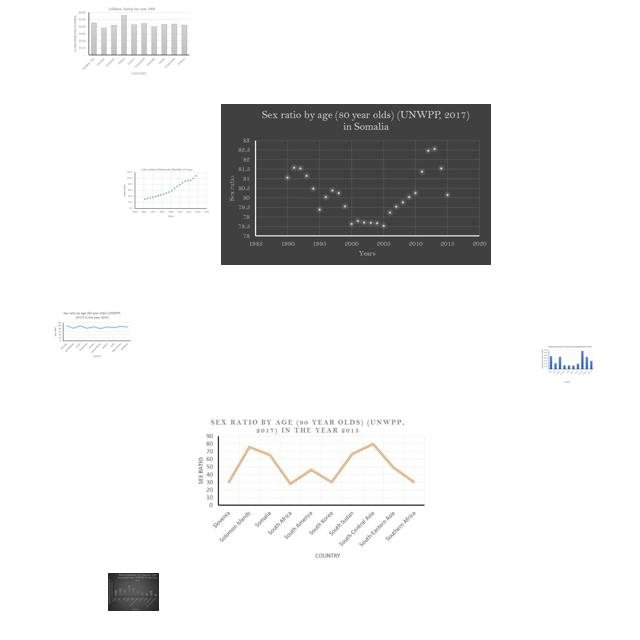Graph: (221, 104, 491, 265), (189, 415, 430, 560), (72, 6, 191, 76), (123, 167, 210, 218), (52, 310, 133, 360), (541, 345, 596, 384), (108, 573, 159, 611)
